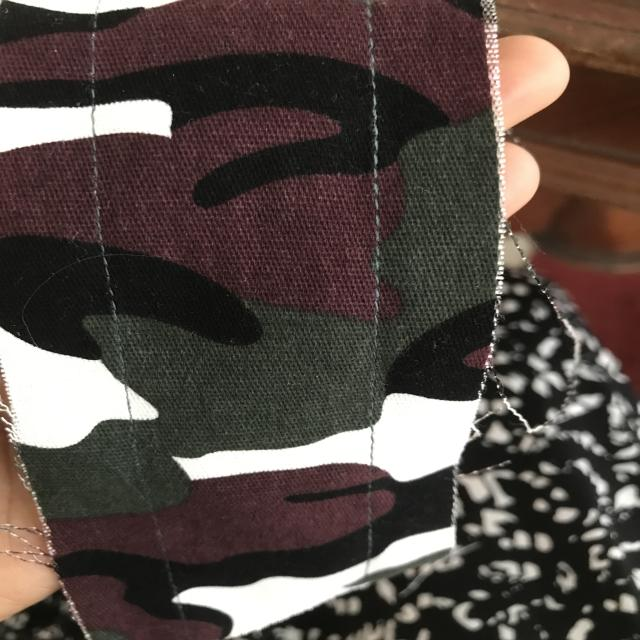good: (354, 189, 402, 289)
